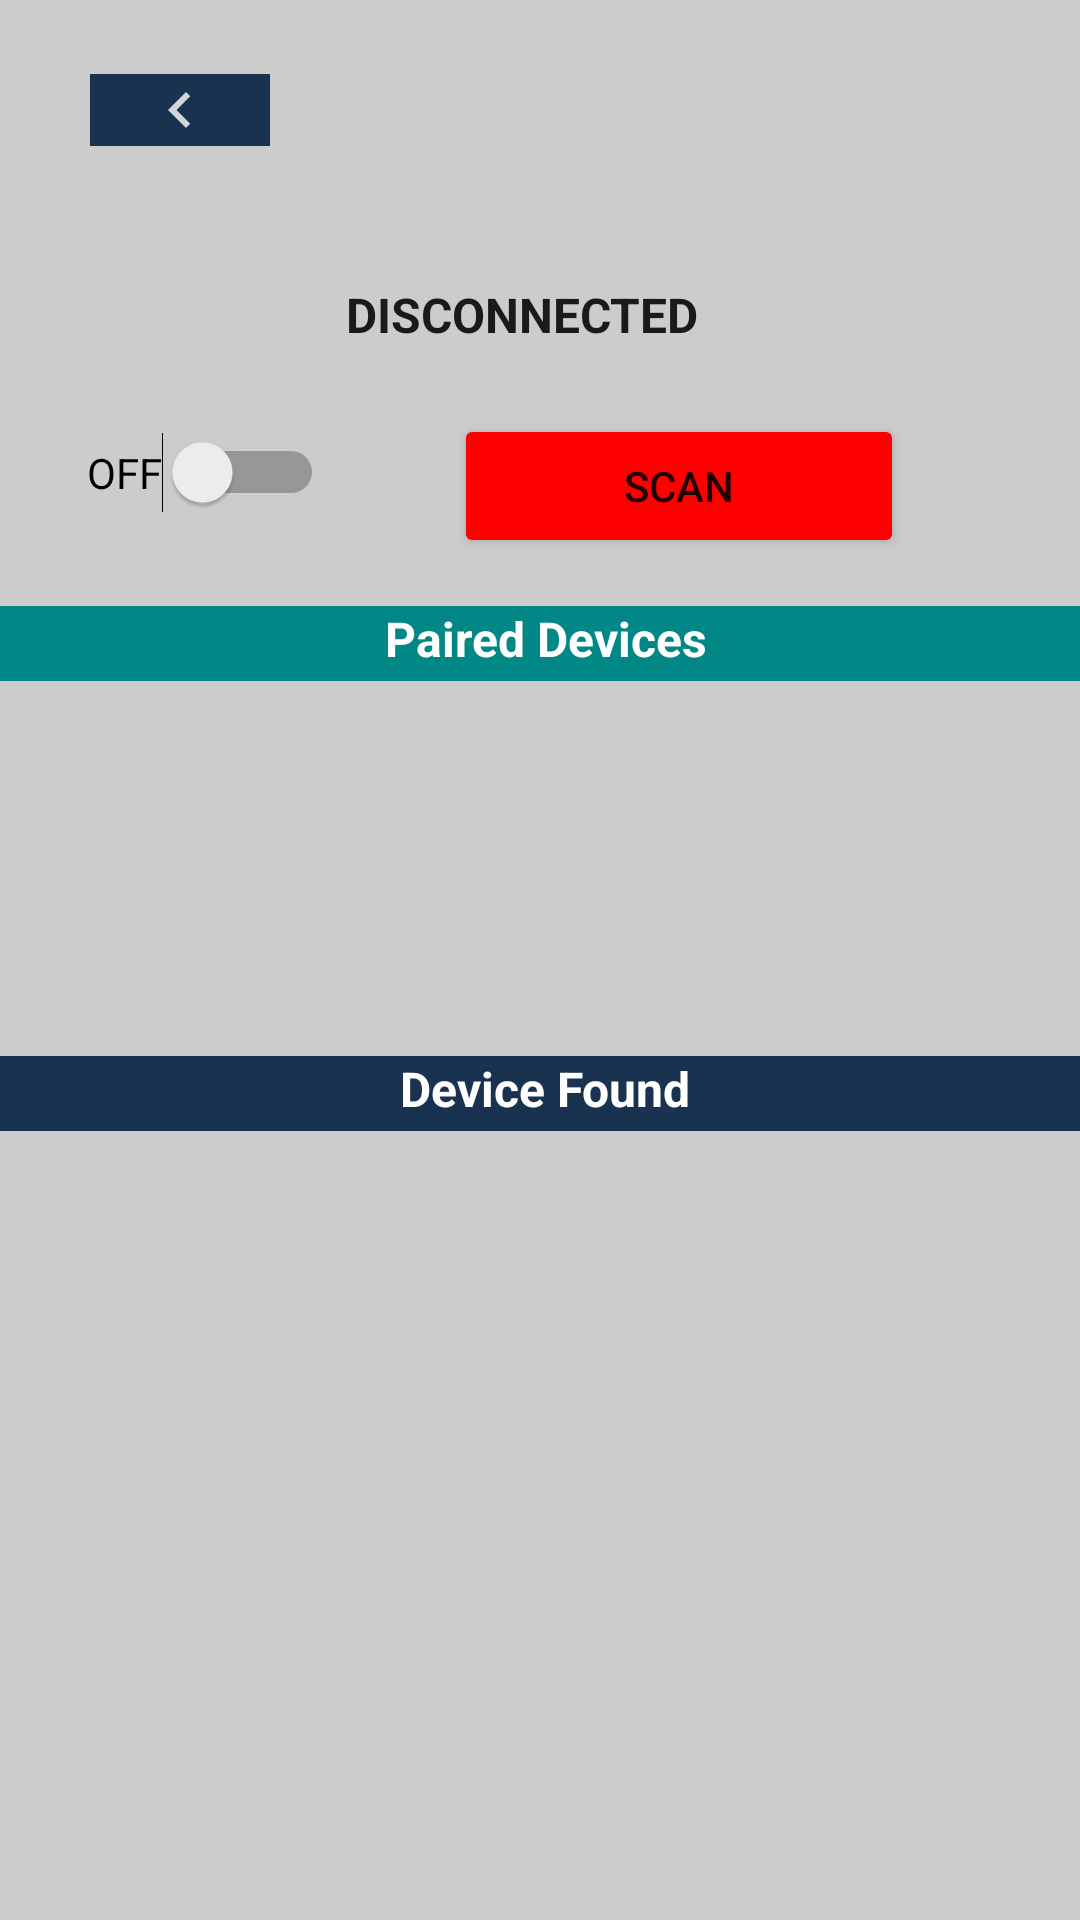

Named icons in this screenshot (1080w x 1920h) and their bounding boxes, (x1, y1, x2, y2):
arrow left: (90, 74, 270, 146)
